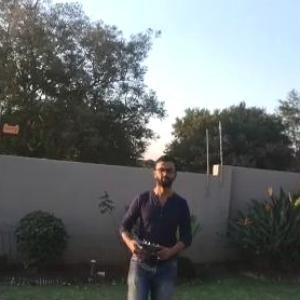follow: (109, 149, 197, 299)
